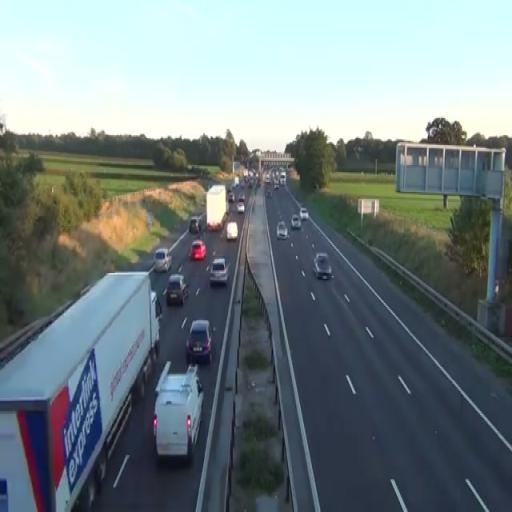Car: (152, 360, 205, 464), (186, 318, 212, 366), (166, 274, 188, 306), (209, 258, 230, 288), (314, 252, 332, 280), (154, 248, 172, 273), (189, 238, 207, 262), (276, 221, 288, 240), (226, 222, 238, 240), (291, 214, 301, 230), (300, 206, 309, 220)
Truck: (0, 271, 162, 507), (152, 360, 205, 464), (206, 184, 228, 233)
